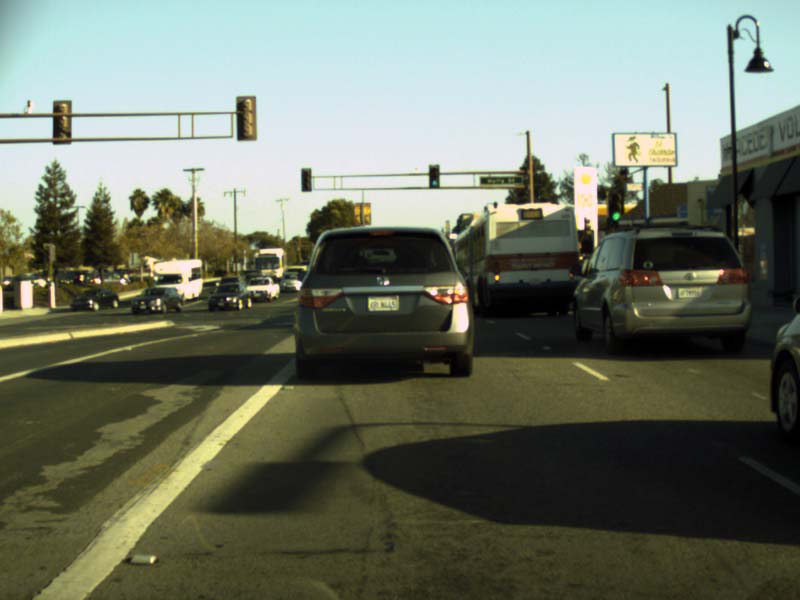Green: (607, 191, 623, 223), (428, 164, 439, 187)
Red: (44, 246, 49, 262)
